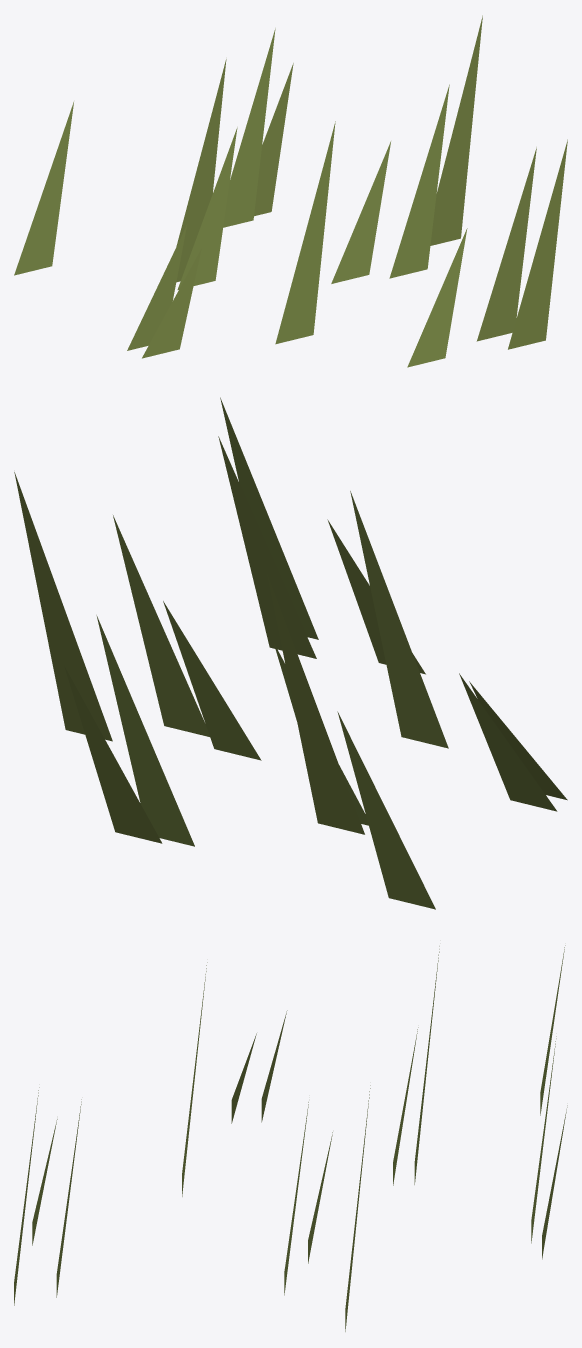
File: BP_Grass_Clump_2.fbx
3 renders of one model, top to bottom at view 1: azimuth 30°, elevation 25°; view 2: azimuth 150°, elevation 25°; view 3: azimuth 270°, elevation 25°, orthographic. The views are drawn at different scales.
Visible parts, largest first — view 1: BP_Grass_Clump_2; view 2: BP_Grass_Clump_2; view 3: BP_Grass_Clump_2.
Part boxes in pixels (x1,y1,x2,y2): BP_Grass_Clump_2: (14,15,567,367); BP_Grass_Clump_2: (14,397,567,909); BP_Grass_Clump_2: (14,945,567,1331).
Bounding box in the file's own units: 95.3 × 47.06 × 85.61.
